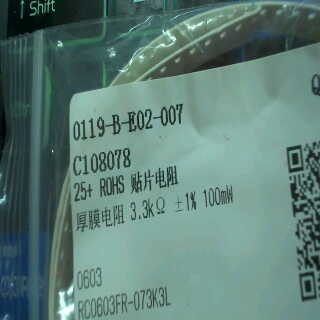3.3kO: (126, 194, 171, 223)
